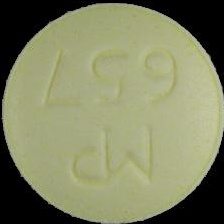43063-509: (0, 0, 224, 224)
